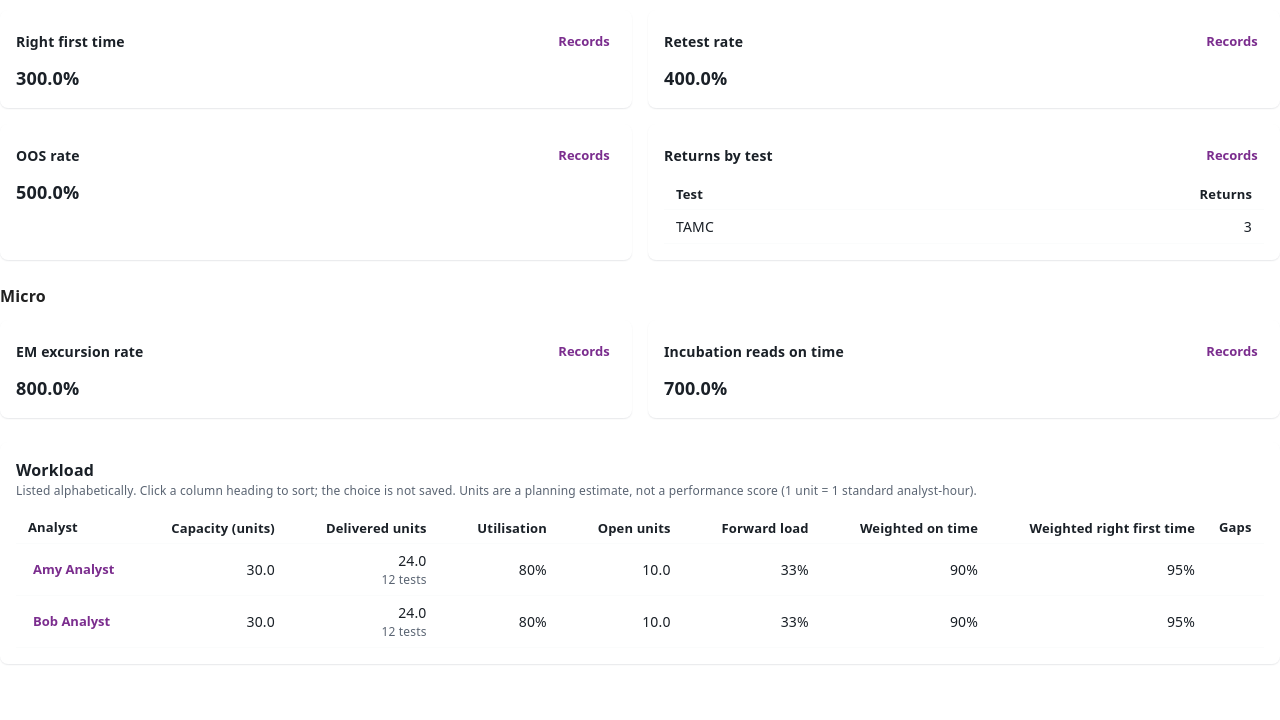
Test: KpiPerformanceTab › opens the tests behind a workload row for that analyst
(page scrolled)
Click the button with aria-label "Show tests for Amy Analyst". click: (74, 570)
box: [28,554,119,585]
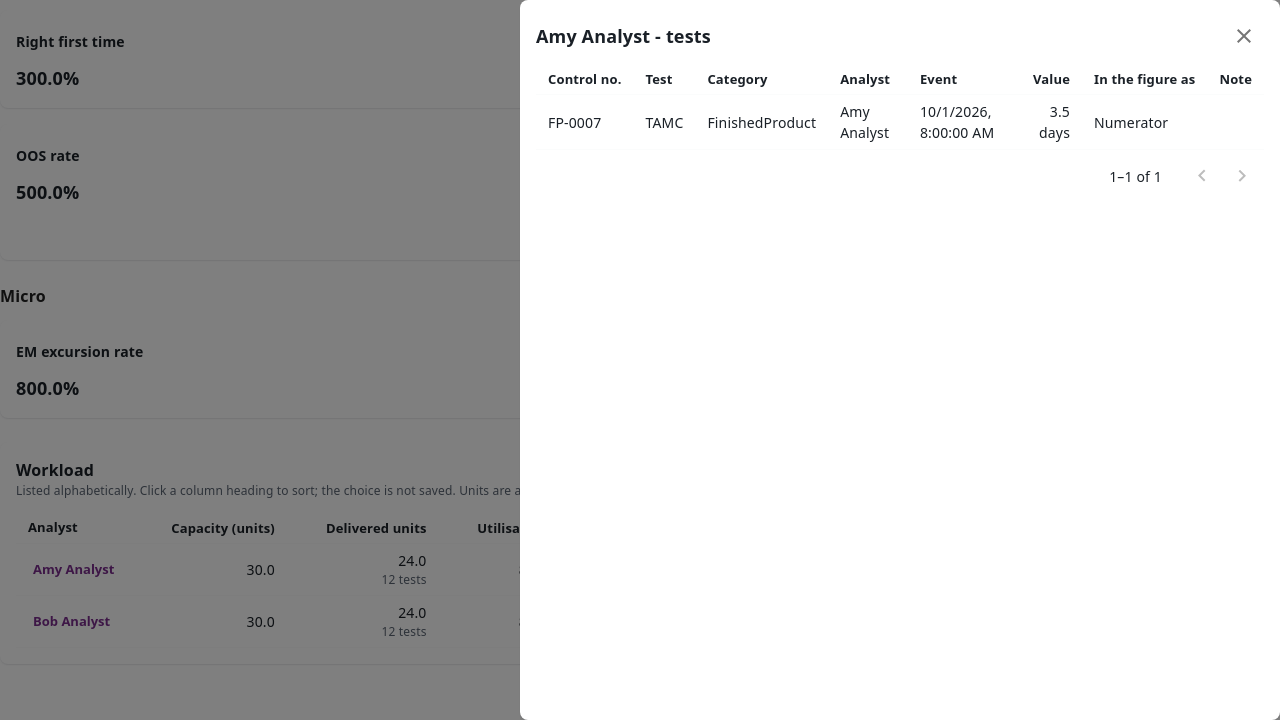
Result: the text "FP-0007" is shown at [536,95,634,150]
